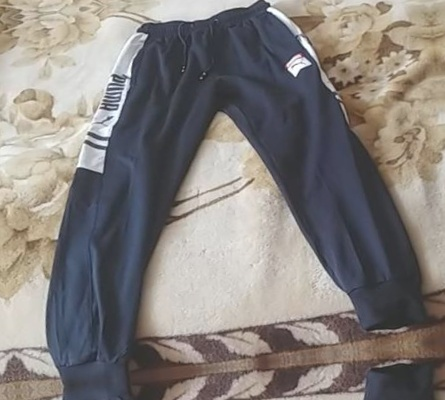Pants: (0, 0, 442, 380), (42, 351, 445, 400)
